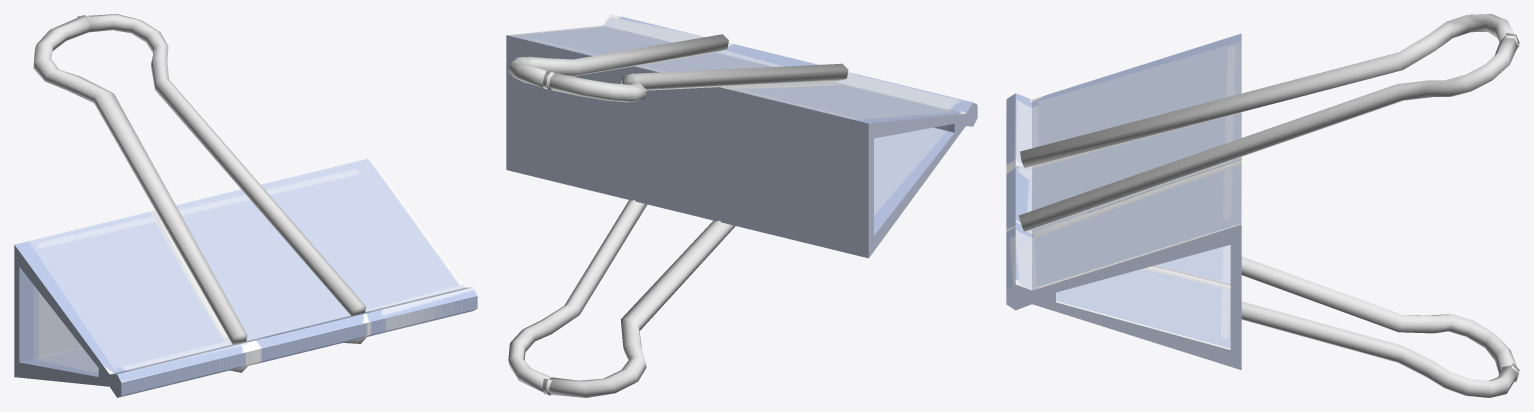
File: paper clip.glb
3 views of the same model, side by side, from view 1: azimuth 30°, elevation 25°; view 2: azimuth 150°, elevation 25°; view 3: azimuth 270°, elevation 25° (orthographic). The views are drawn at different scales.
Parts seen in each view (by area): view 1: Cylinder, Cylinder.001; view 2: Cylinder, Cylinder.002, Cylinder.001; view 3: Cylinder, Cylinder.001, Cylinder.002.
Boxes of the visible parts, x1,y1,x2,y2 form: Cylinder: (14,158,477,397); Cylinder.001: (33,14,366,344); Cylinder: (506,14,977,258); Cylinder.002: (508,200,735,397); Cylinder.001: (508,34,848,102); Cylinder: (1006,33,1241,369); Cylinder.001: (1019,14,1519,231); Cylinder.002: (1241,256,1519,397).
Size of the model in its own units: 1.22 by 1.03 by 1.38.
Materials: 1 (1 with a texture image).
